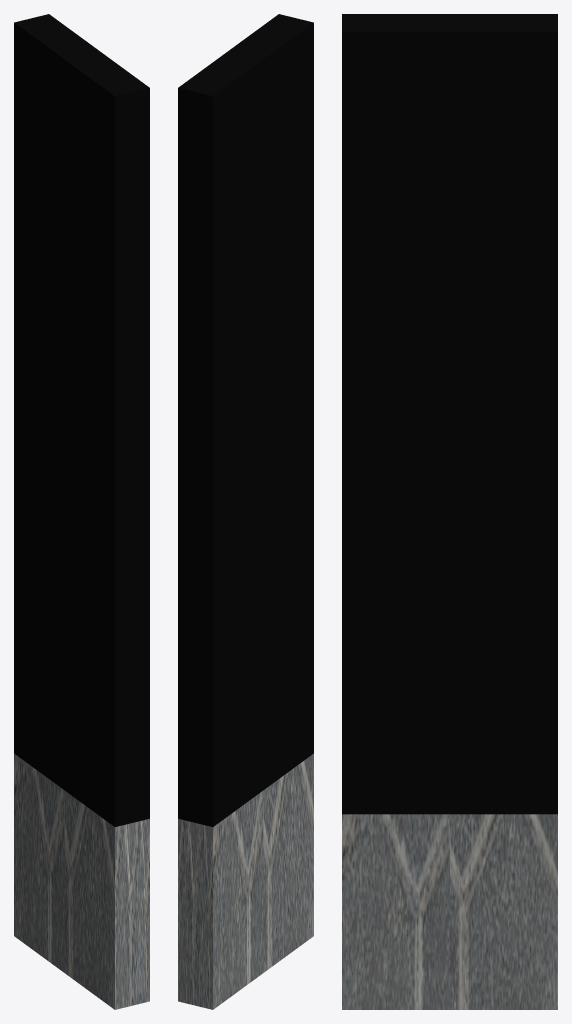
The model's file is GODOT_TDS_Door_1.gltf.
3 renders of one model, left to right at view 1: azimuth 30°, elevation 25°; view 2: azimuth 150°, elevation 25°; view 3: azimuth 270°, elevation 25°, orthographic. The views are drawn at different scales.
Parts seen in each view (by area): view 1: Cube.002, Cube.003; view 2: Cube.003, Cube.002; view 3: Cube.002, Cube.003.
Part boxes in pixels (box(x1,y1,x2,y2)): Cube.002: box(64, 51, 149, 1009); Cube.003: box(14, 14, 98, 972); Cube.003: box(178, 51, 263, 1009); Cube.002: box(229, 14, 313, 972); Cube.002: box(342, 14, 449, 1009); Cube.003: box(450, 14, 557, 1009).
Size of the model in its own units: 0.4 by 10 by 2.
Materials: 2 (1 with a texture image).
